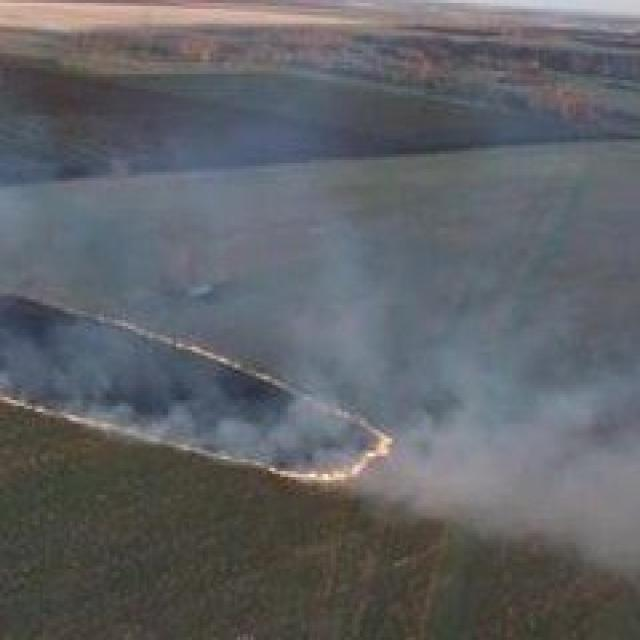Smoke: (52, 181, 640, 574)
